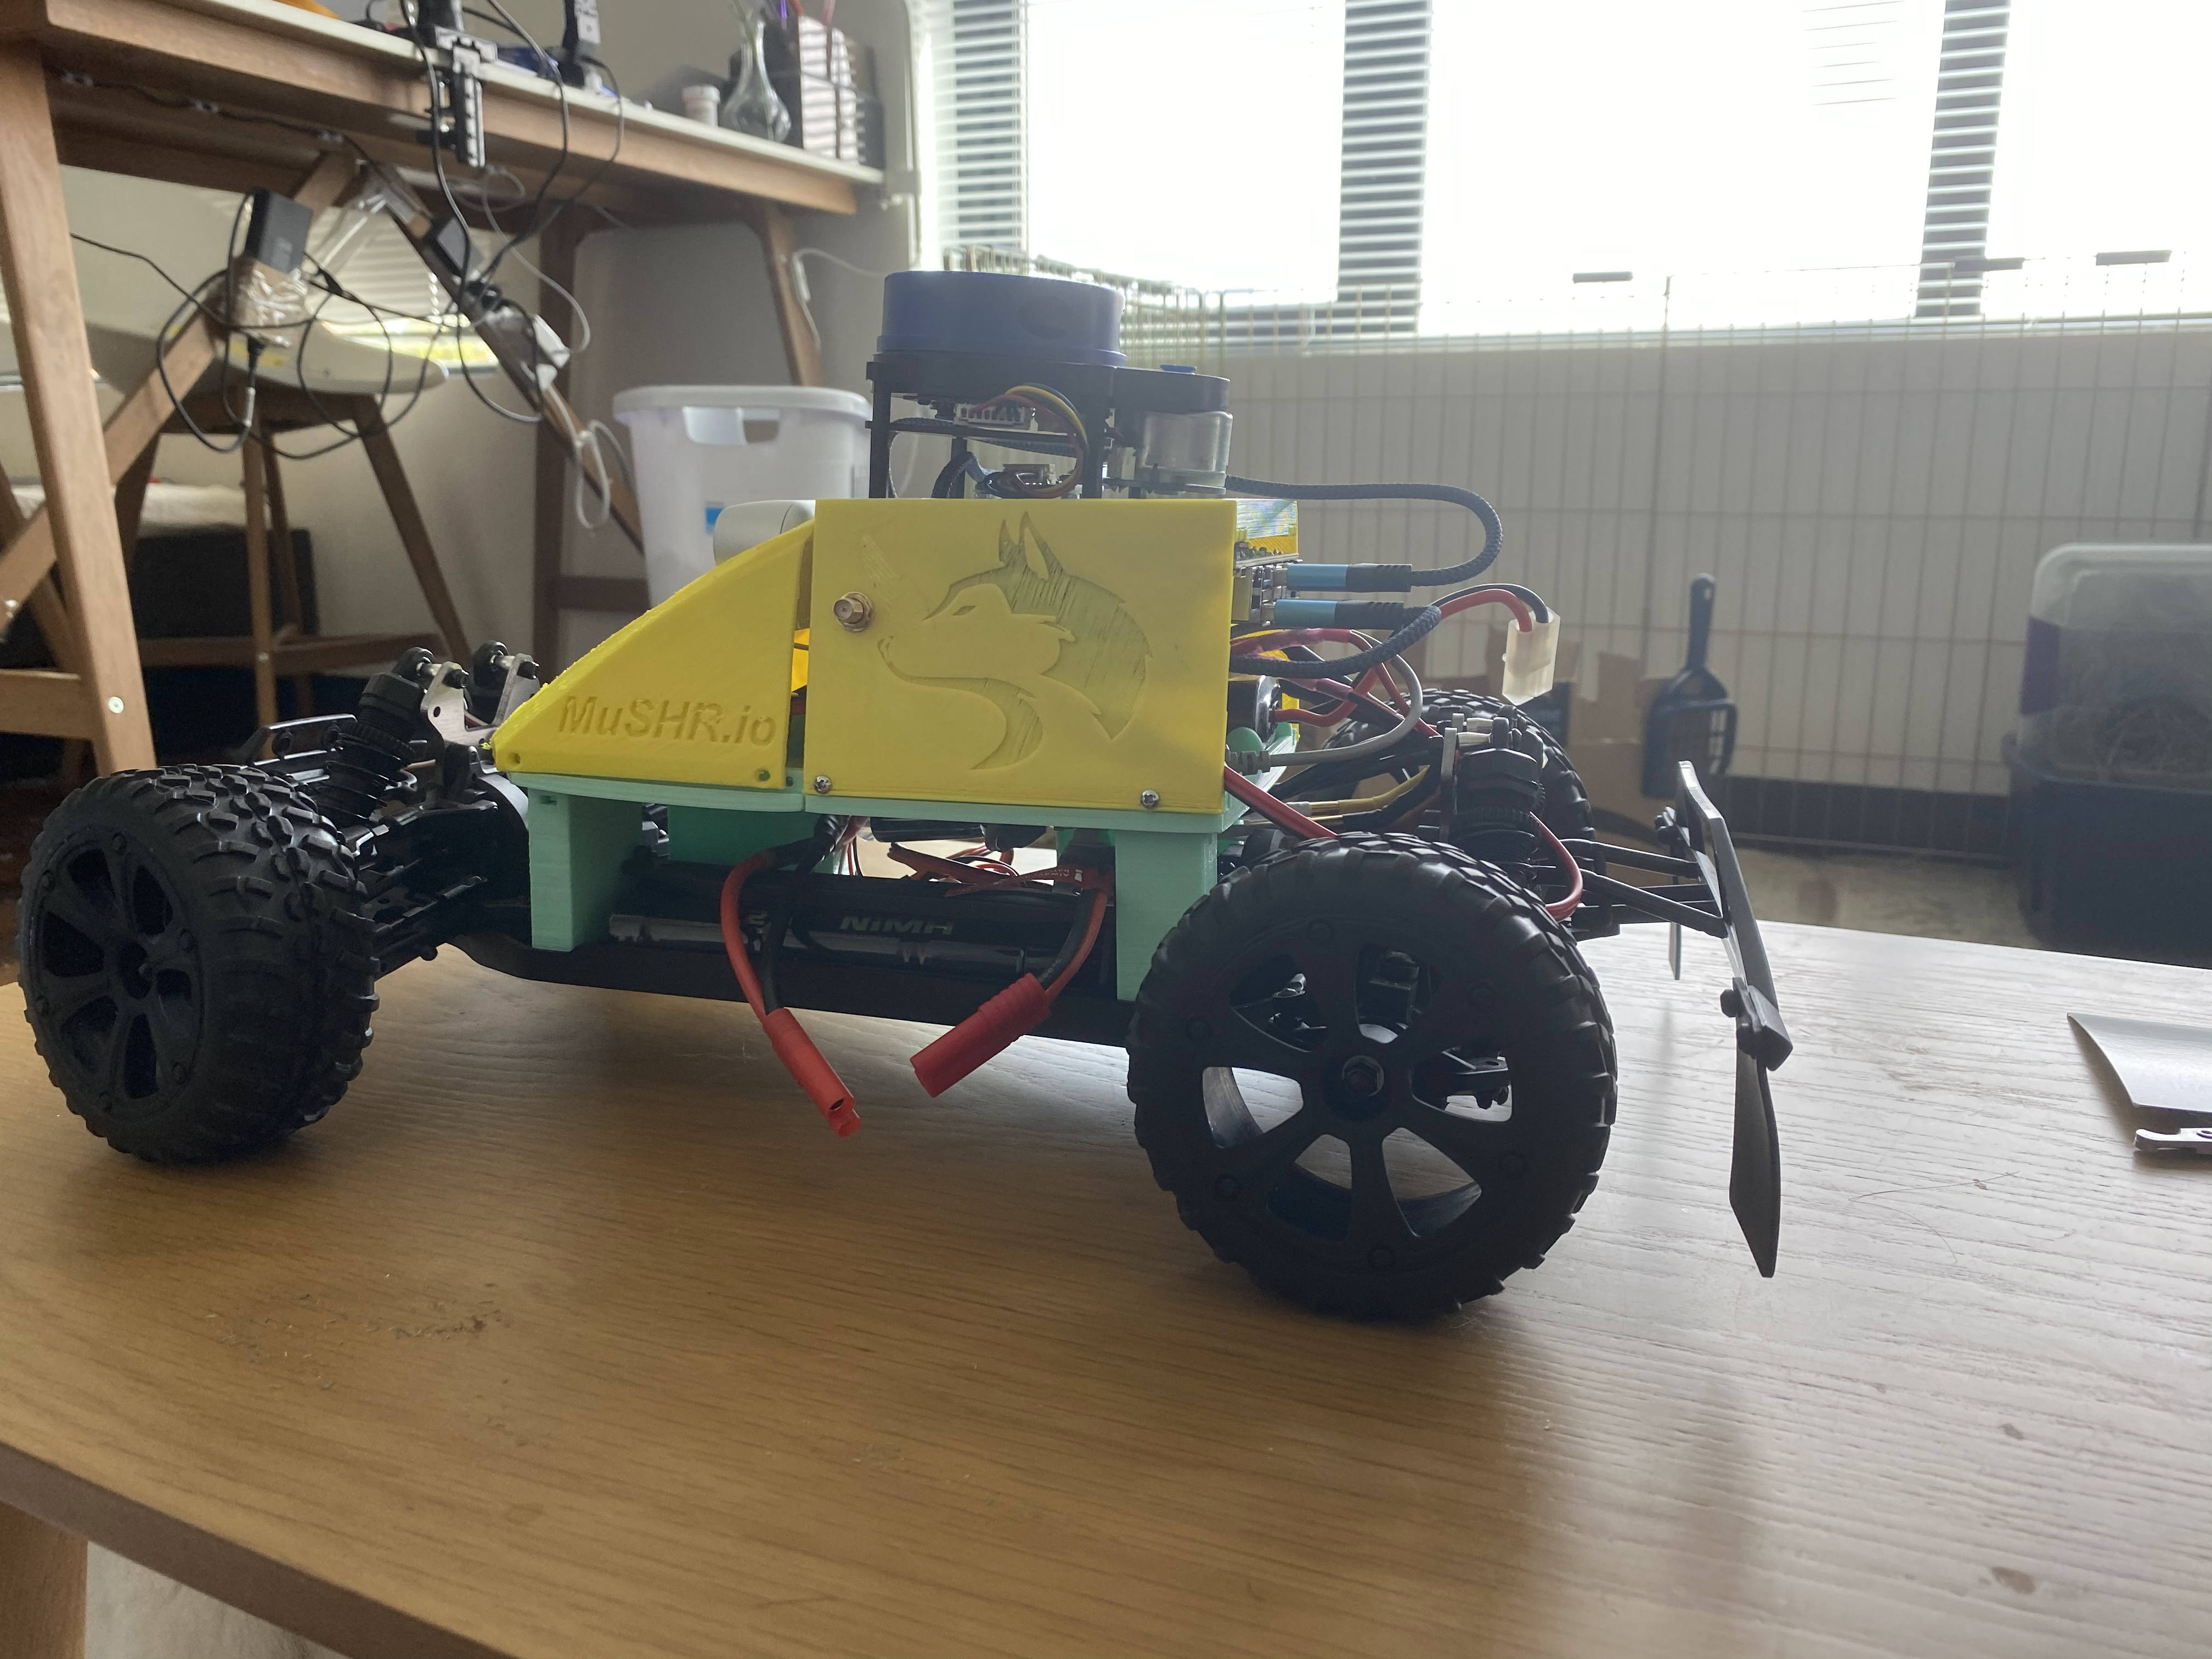mushr_car: (0, 209, 1808, 1377)
